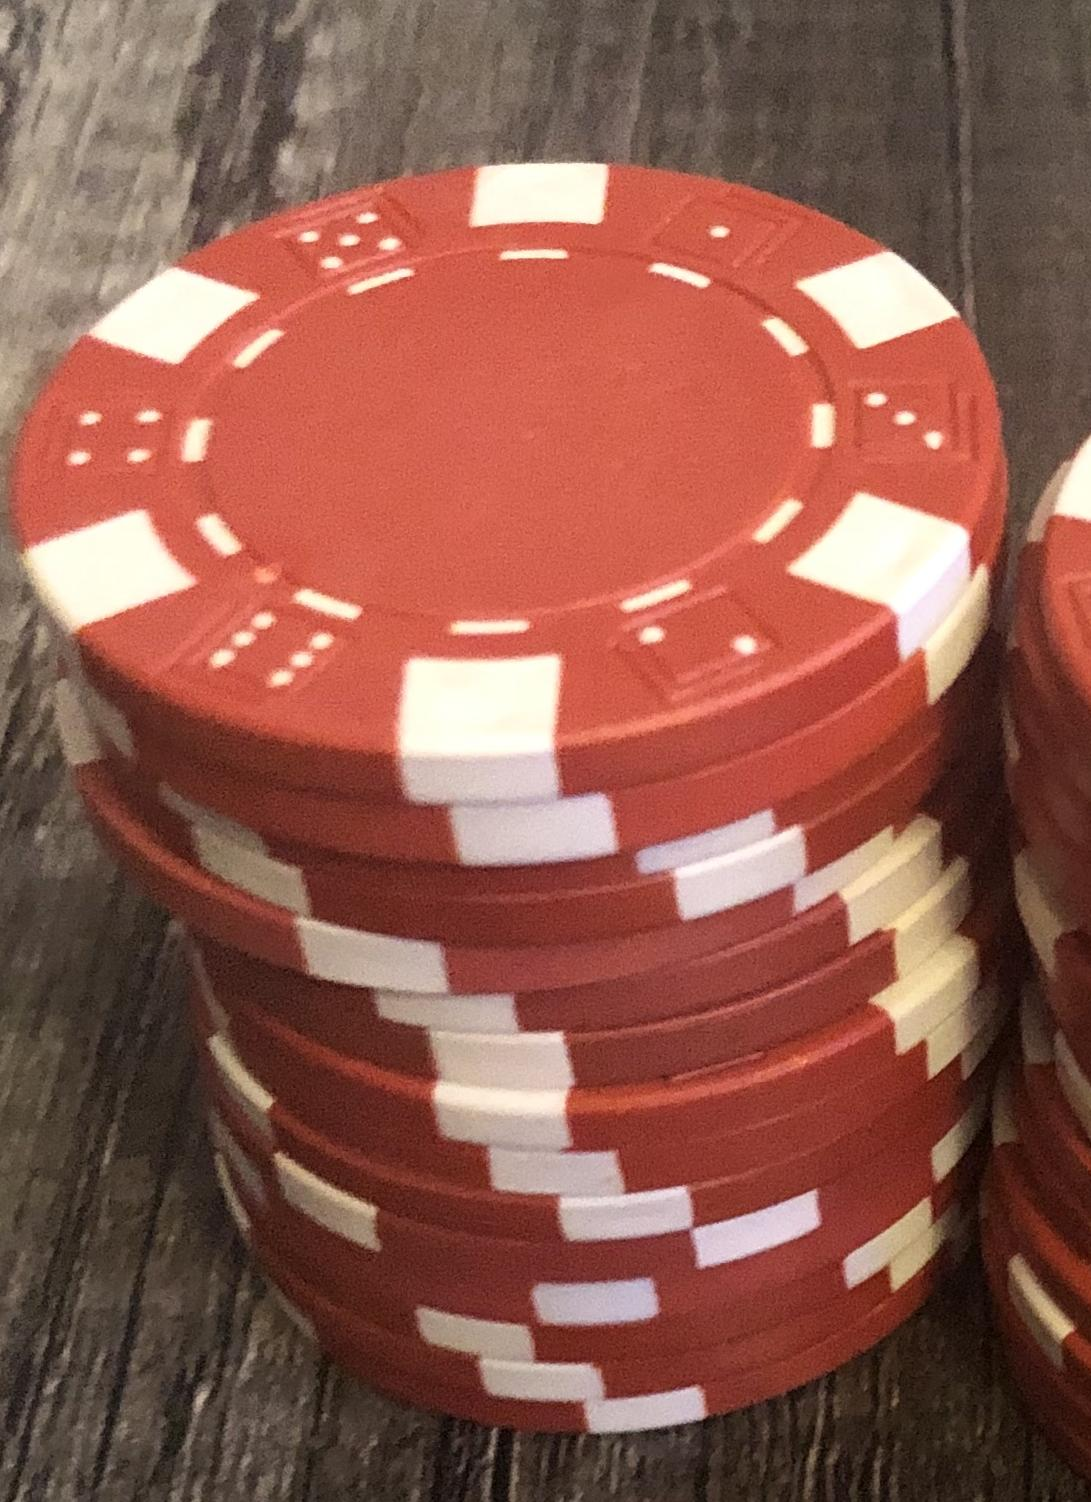Chip: (1, 1, 1091, 1502)
